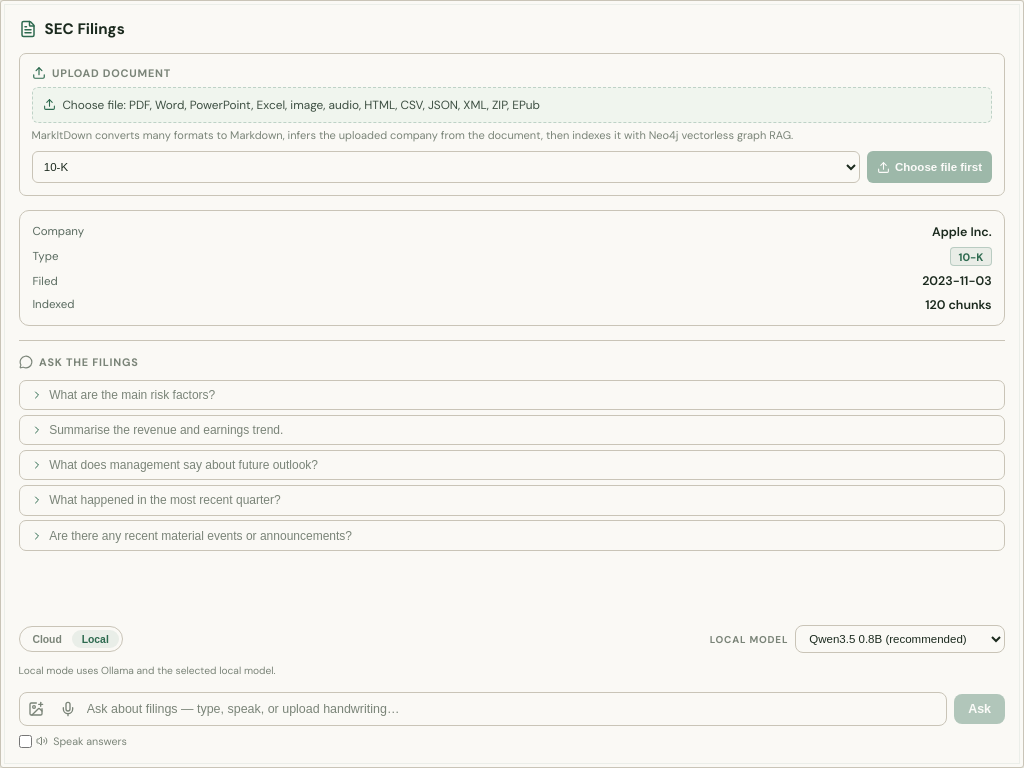
FilingPanel › shows error message on failed chat request
Type "What are the risks?" into the field with placeholder "Ask about filings — type, speak, or upload handwriting…" at (515, 709), box [84,694,946,724]
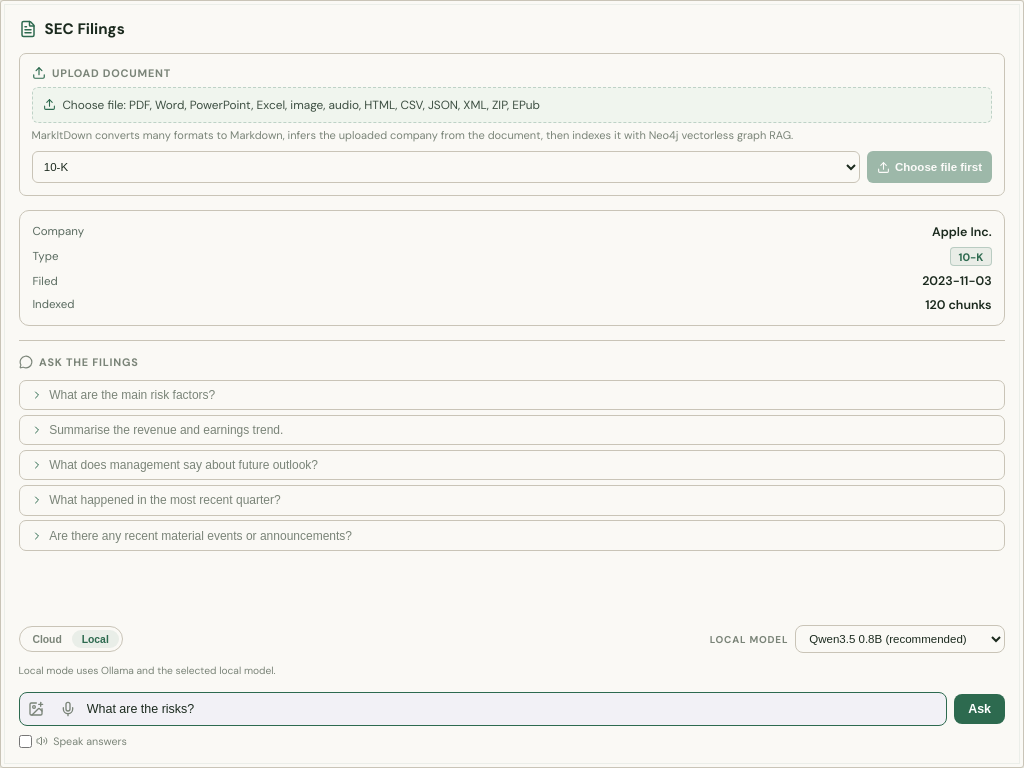
Click the button "Ask" at (980, 709), box [954,694,1006,724]
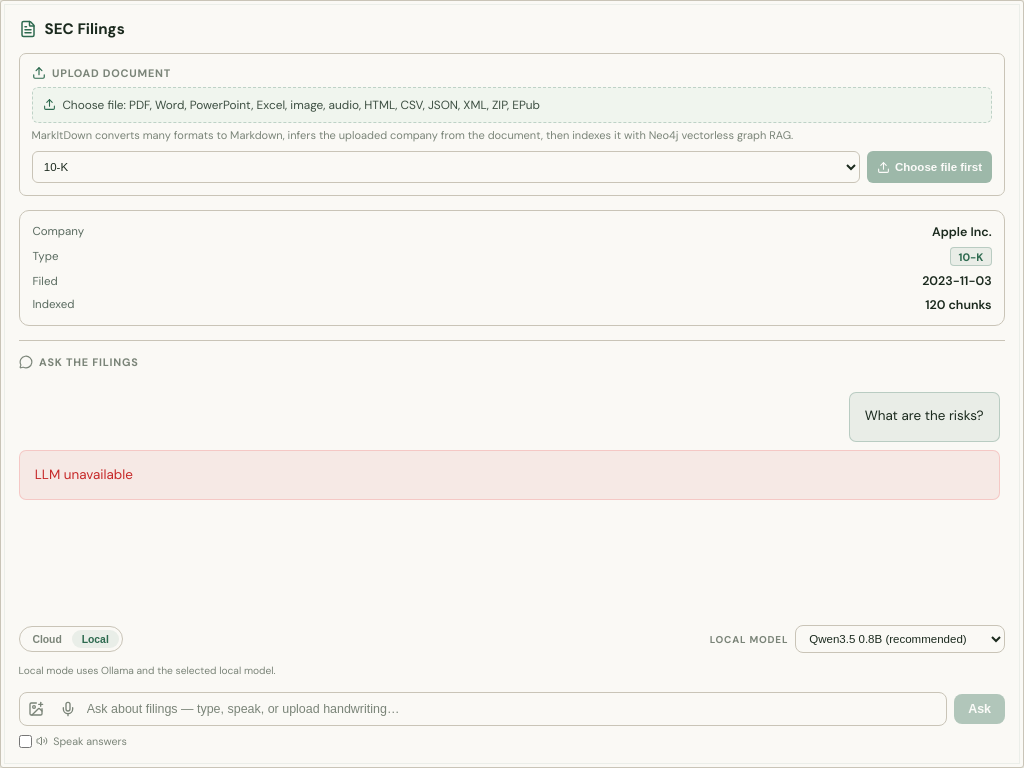
Expected: the text "LLM unavailable" is shown, [35,466,133,483]
